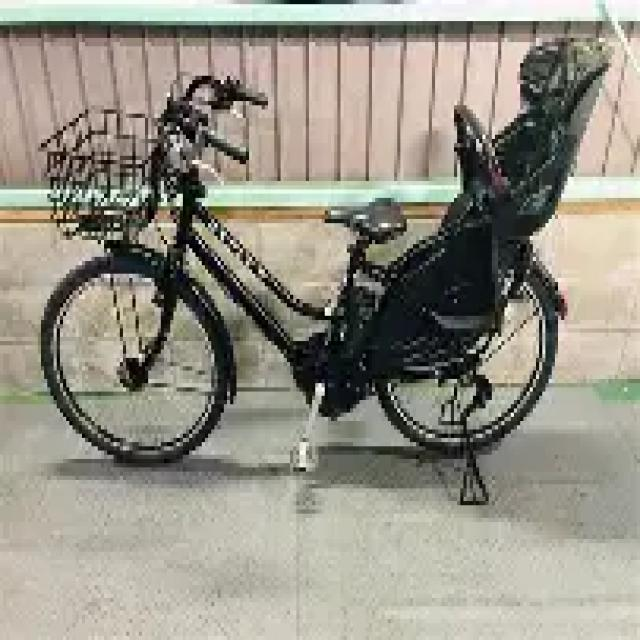basket: (32, 108, 175, 242)
battery: (336, 283, 384, 366)
childseat: (379, 33, 619, 368)
